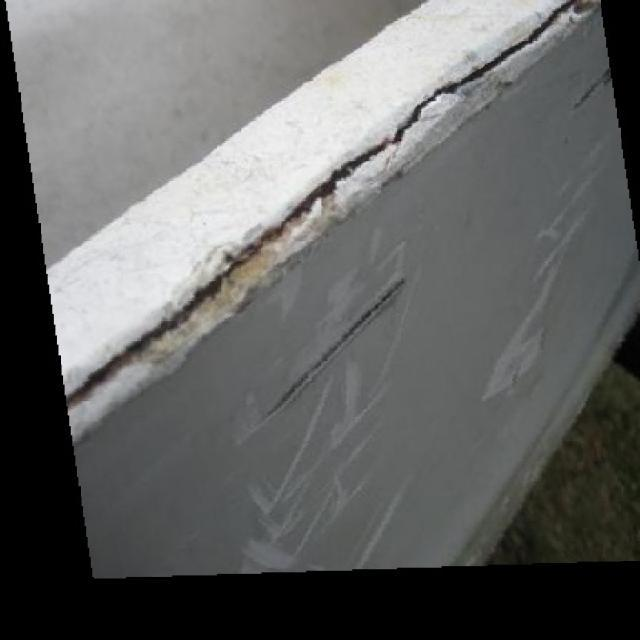crack: (77, 192, 314, 425), (315, 2, 592, 198)
